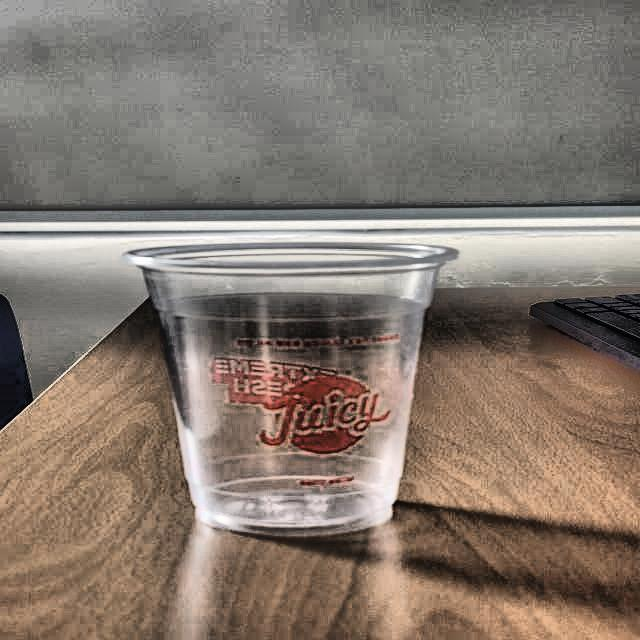plastic cup: (124, 238, 463, 536)
